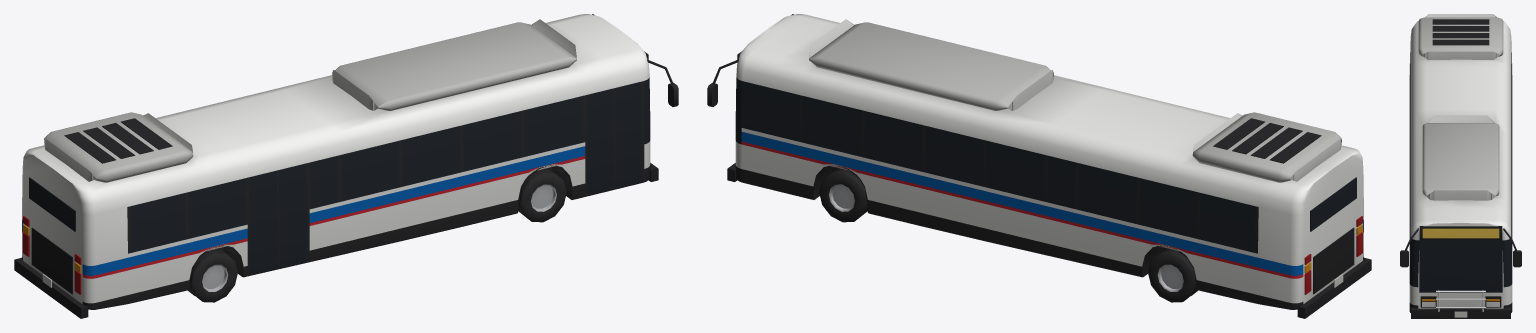
The model's file is bus.glb.
3 renders of one model, left to right at view 1: azimuth 30°, elevation 25°; view 2: azimuth 150°, elevation 25°; view 3: azimuth 270°, elevation 25°, orthographic. The views are drawn at different scales.
Visible parts, largest first — view 1: lod0; view 2: lod0; view 3: lod0.
Part boxes in pixels (x1,y1,x2,y2): lod0: [14, 14, 678, 318]; lod0: [707, 14, 1371, 318]; lod0: [1400, 14, 1521, 318].
Size of what is drawn, in the model's own units: 12.57 by 3.15 by 3.02.
